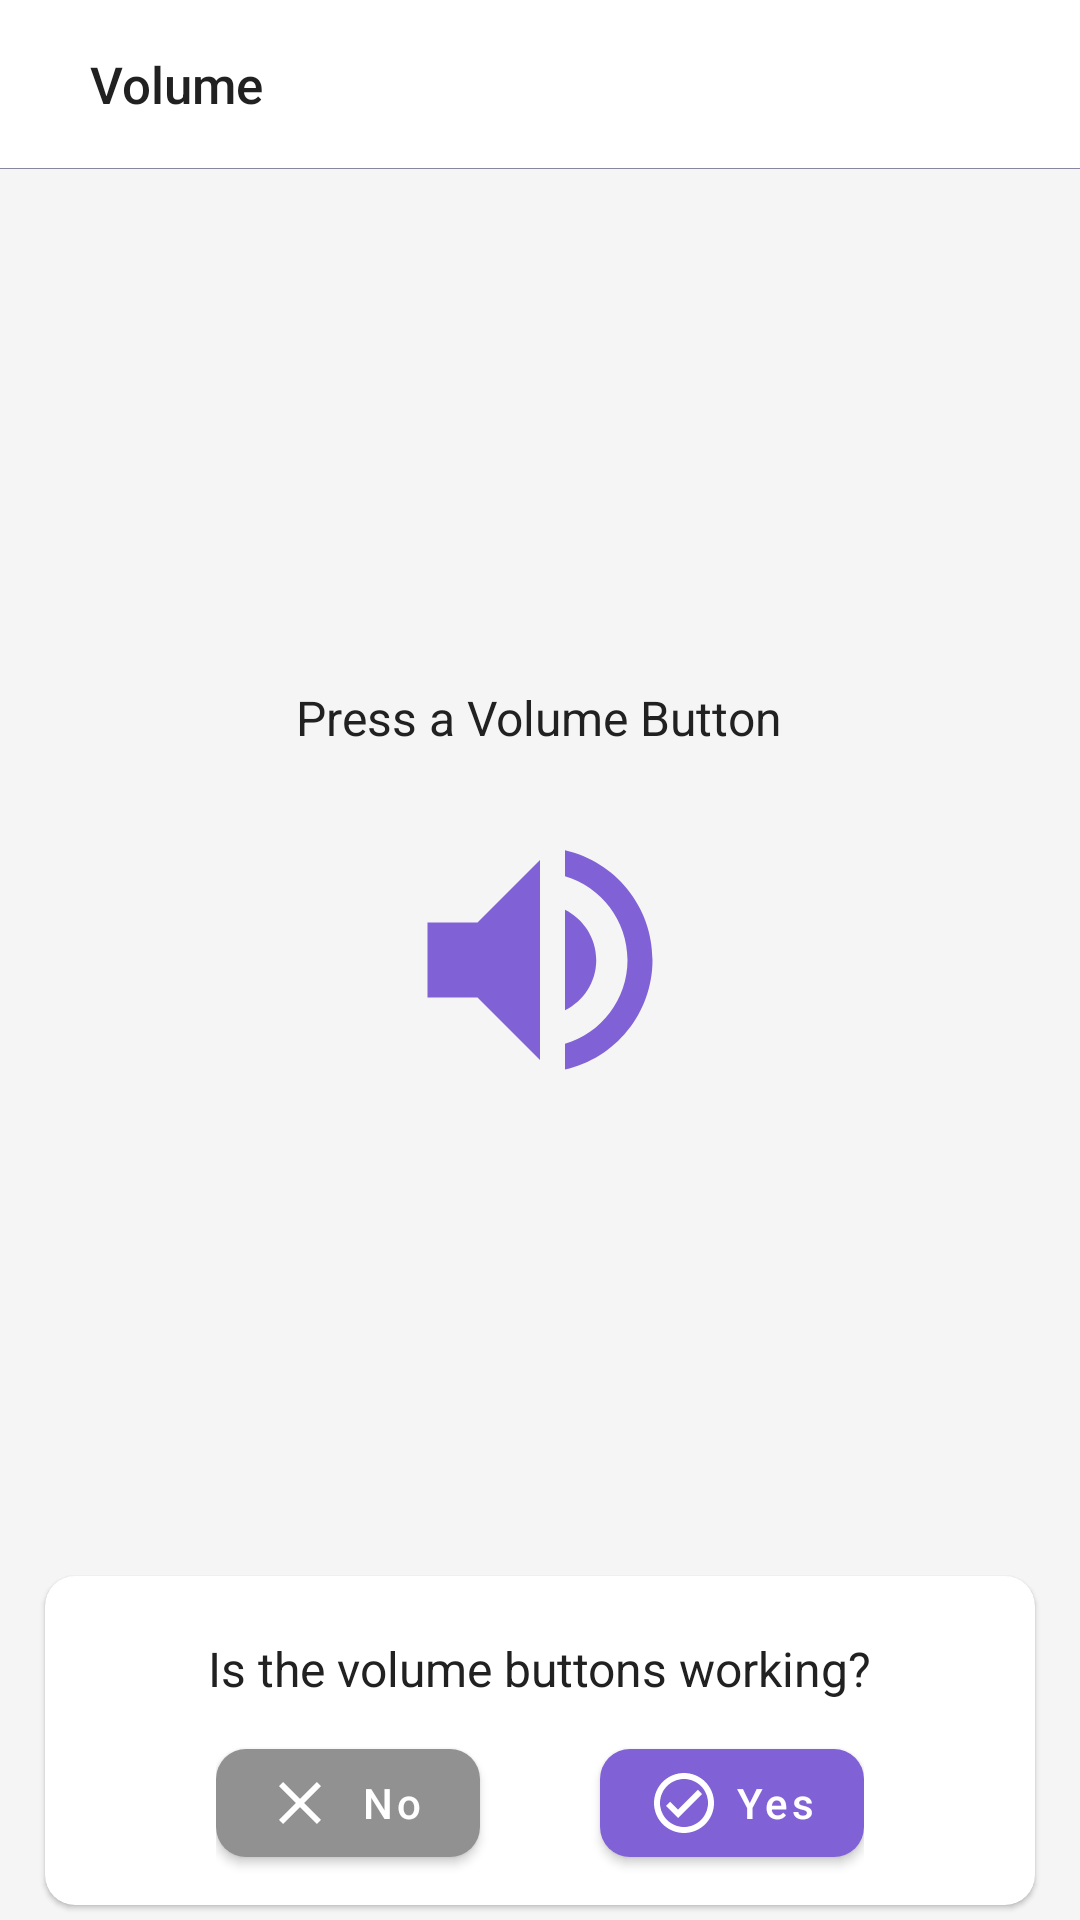

Icons on this 1080 × 1920 Android screen, each with its box as [x1, y1, x2, y2]:
volume up: [427, 850, 653, 1070]
